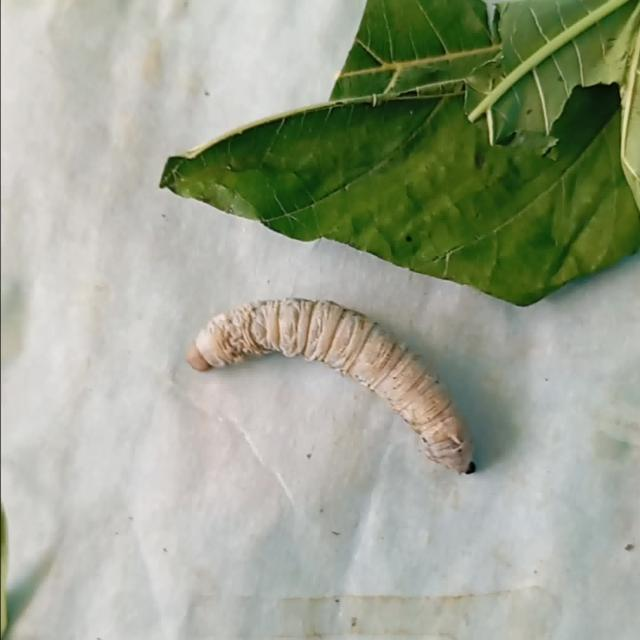Grasserie: (179, 272, 501, 504)
